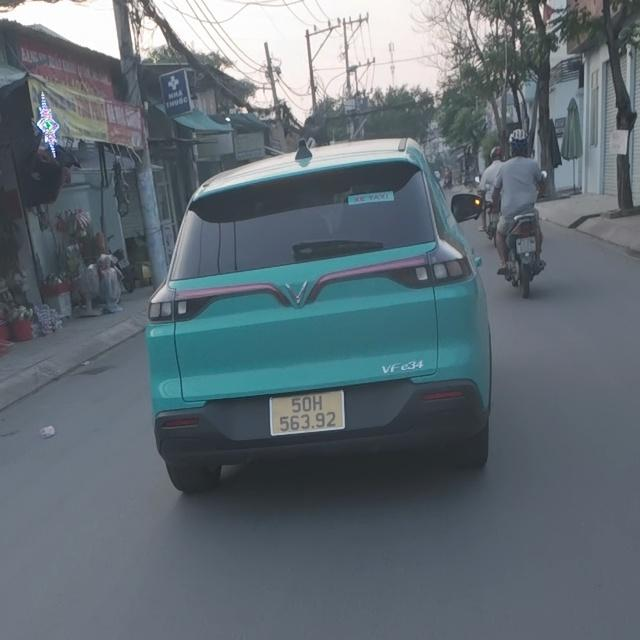license-plate: (270, 391, 344, 435)
